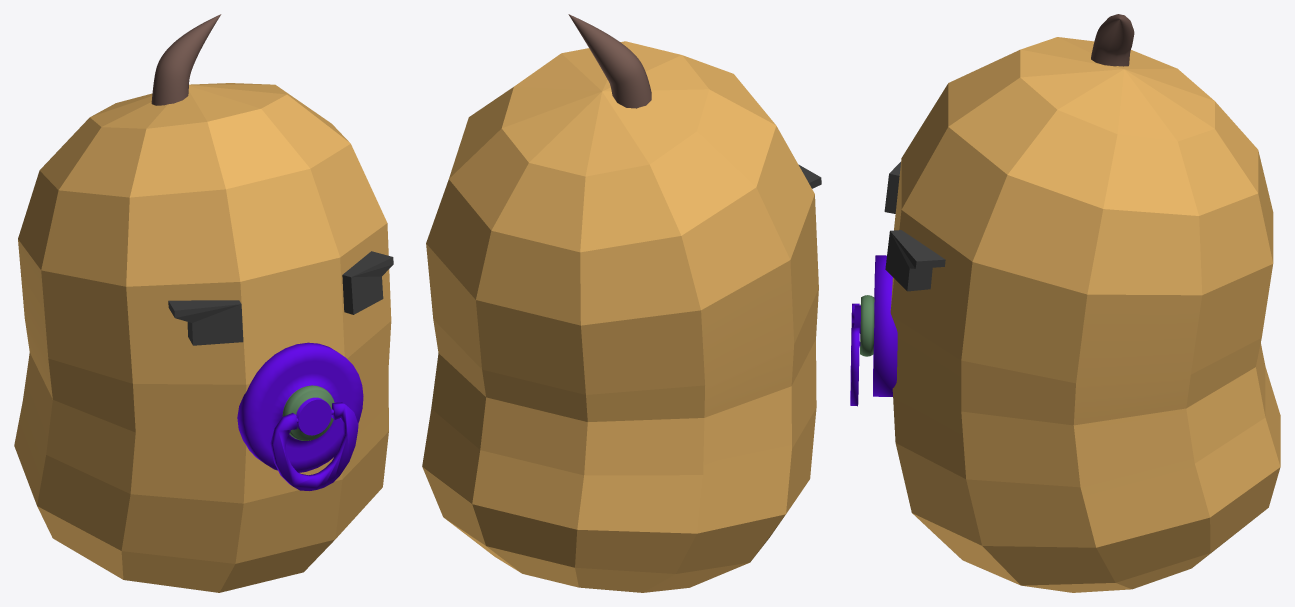
Rendered from BabyModel.fbx.
3 views of the same model, side by side, from view 1: azimuth 30°, elevation 25°; view 2: azimuth 150°, elevation 25°; view 3: azimuth 270°, elevation 25° (orthographic). The views are drawn at different scales.
Visible parts, largest first — view 1: SM_Bean_Female_01, NurbsPath; view 2: SM_Bean_Female_01, NurbsPath; view 3: SM_Bean_Female_01, NurbsPath.
Boxes of the visible parts, box(x1,y1,x2,y2) form: SM_Bean_Female_01: box(14, 83, 393, 592); NurbsPath: box(151, 14, 221, 105); SM_Bean_Female_01: box(422, 41, 821, 592); NurbsPath: box(568, 14, 651, 108); SM_Bean_Female_01: box(850, 37, 1280, 592); NurbsPath: box(1091, 14, 1134, 66).
Size of the model in its own units: 89.78 by 141 by 97.55.
